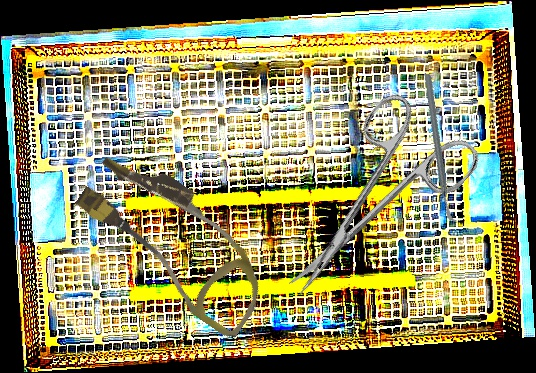Cannula: (60, 140, 290, 342)
Chopper: (387, 72, 495, 224)
Iris Scissors: (248, 80, 486, 326)
